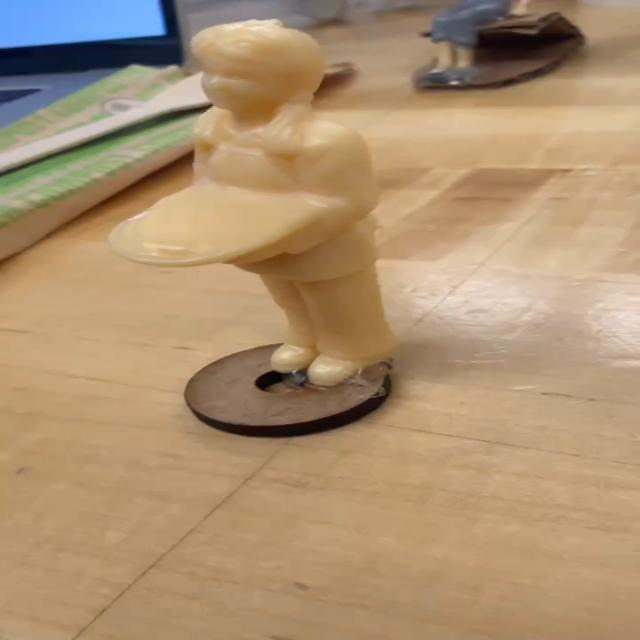Unauthorized: (111, 13, 400, 416)
